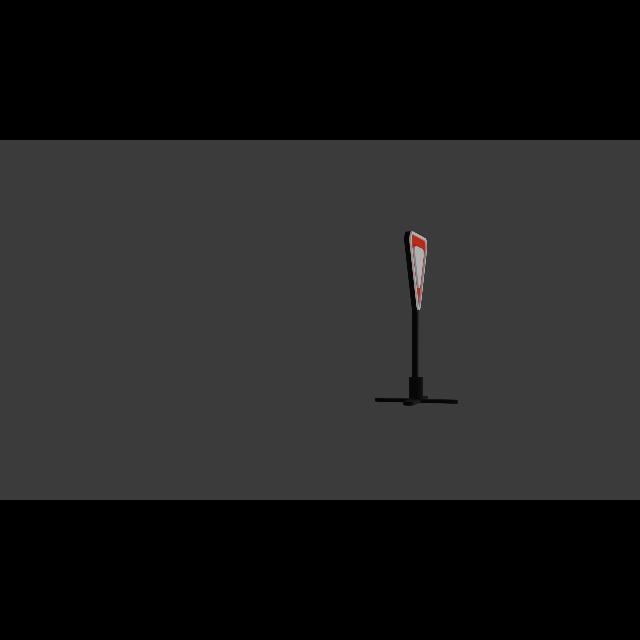sign_yield: (408, 232, 428, 311)
